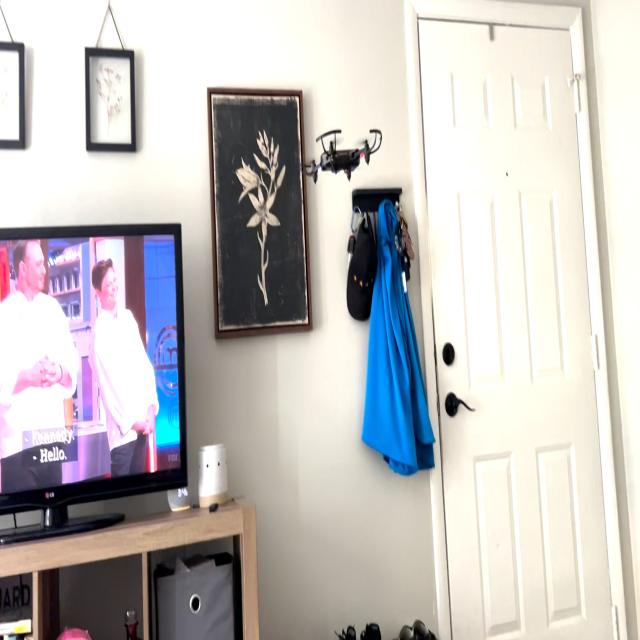drone: (294, 113, 392, 198)
